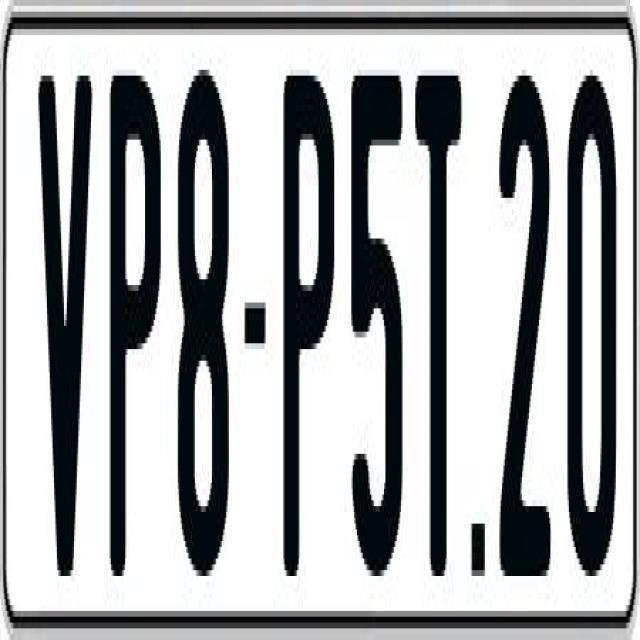0: (563, 58, 616, 588)
2: (496, 76, 556, 576)
5: (351, 75, 404, 588)
8: (176, 64, 228, 576)
P: (110, 75, 167, 588), (284, 75, 338, 606)
T: (414, 64, 464, 576)
V: (37, 64, 100, 594)
